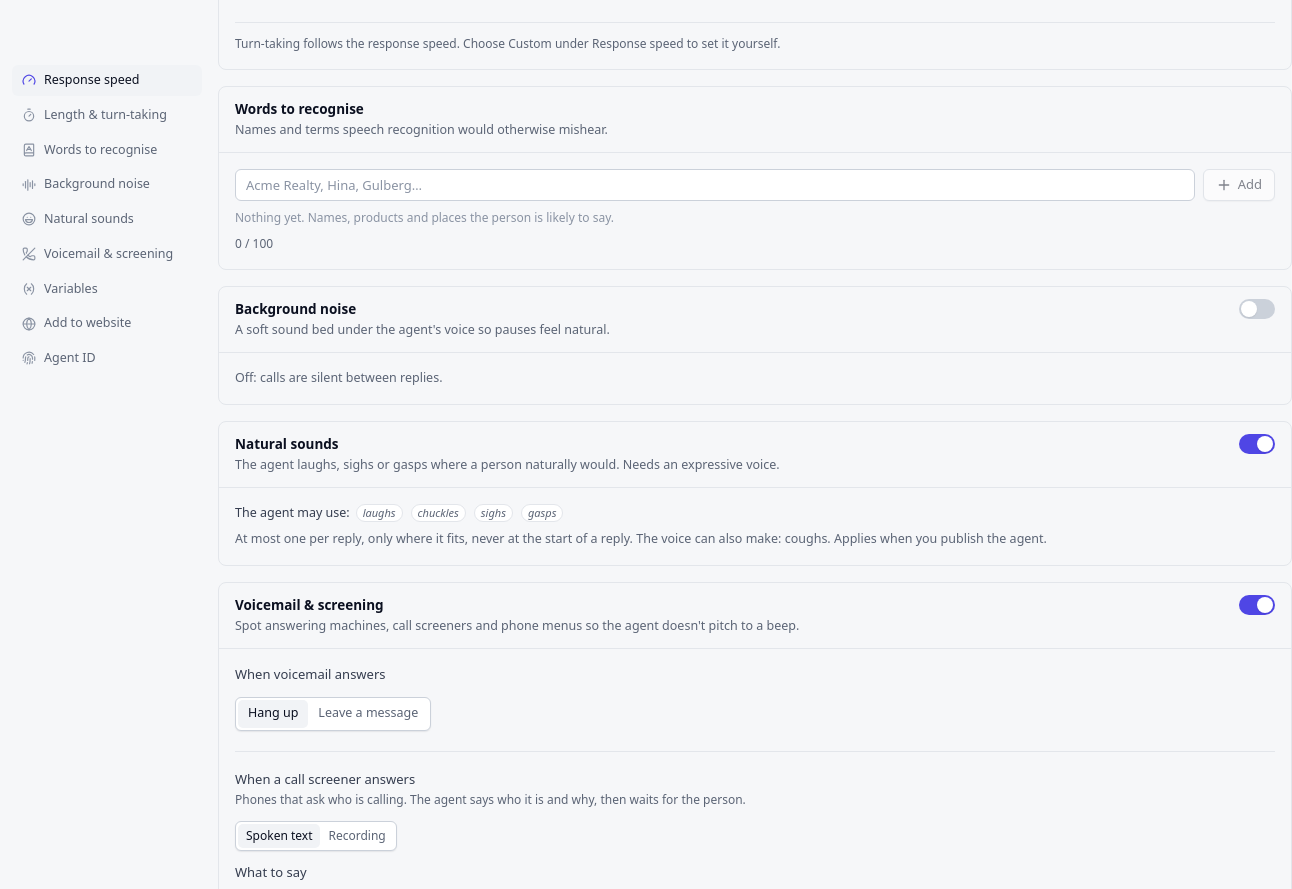
Test case: CallSettingsTab › turns natural sounds on or off when the agent's voice is expressive, and lists its sounds
(page scrolled)
Expected: the element named "The agent may use: laughs, chuckles, sighs, gasps" is shown, [235, 504, 563, 522]
Expected: the text "The voice can also make: coughs." is shown, [633, 530, 831, 547]
What coordinates should you click on to do the following:
click the switch named "Natural sounds"
I would click on:
 (1257, 444)
Its box is [1239, 434, 1275, 454].
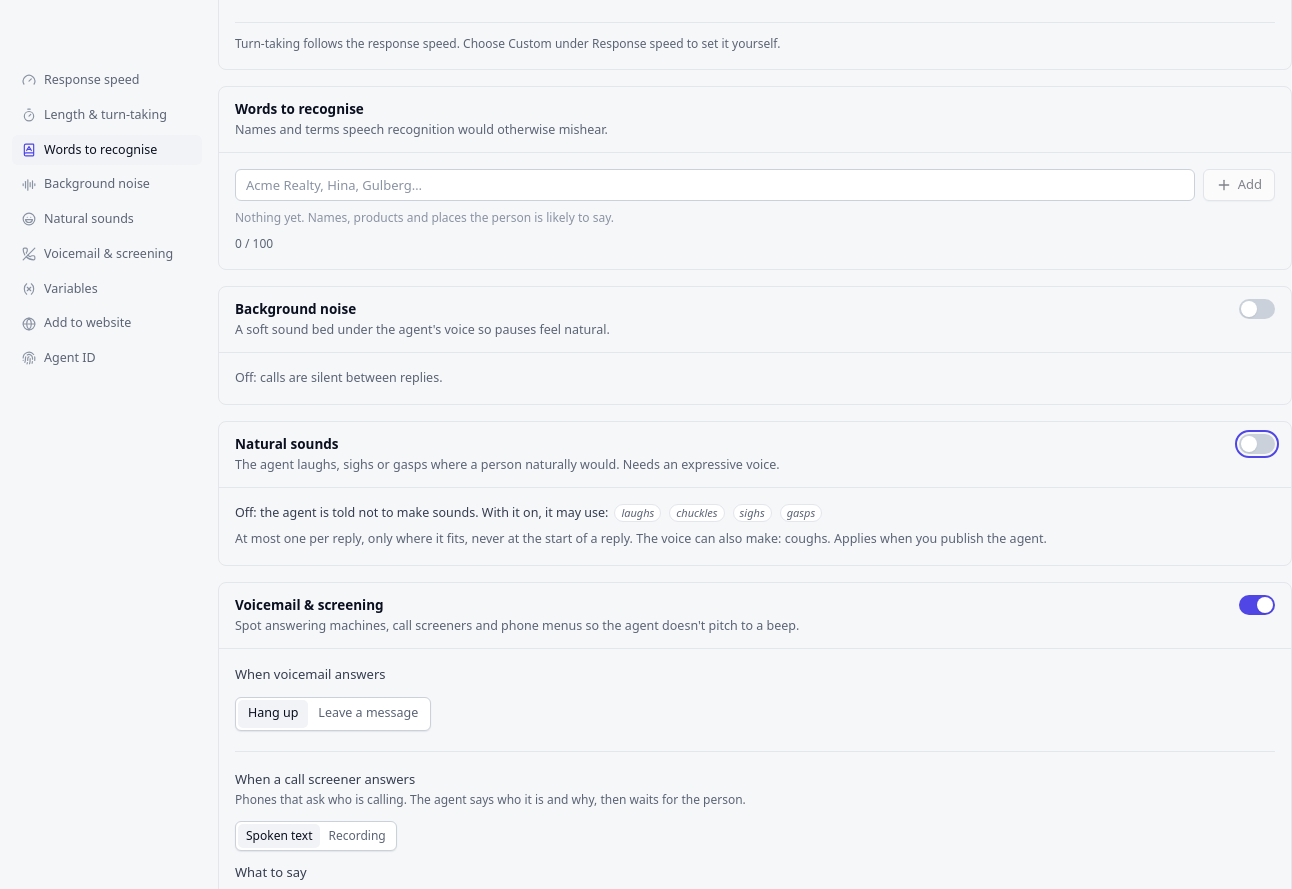
Now the text "Off: the agent is told not to make sounds" is shown, box [235, 504, 608, 520]
